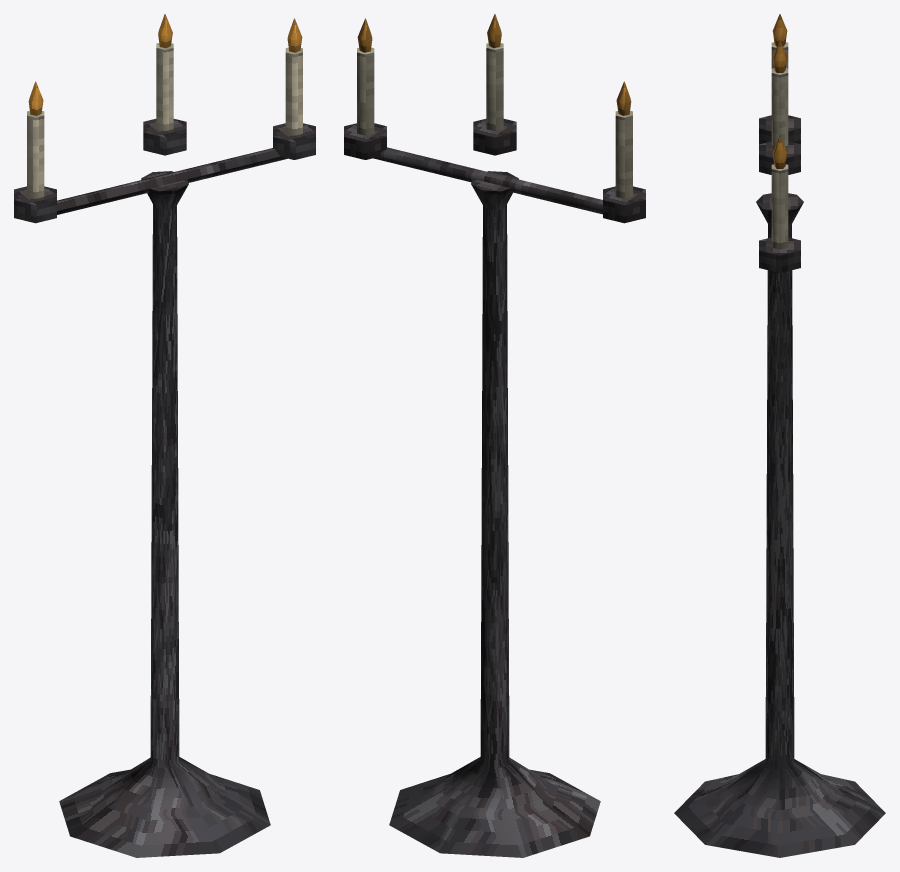
The model's file is candelabrum.glb.
The picture shows the model from 3 angles, left to right: view 1: azimuth 30°, elevation 25°; view 2: azimuth 150°, elevation 25°; view 3: azimuth 270°, elevation 25°; orthographic projection. The views are drawn at different scales.
Parts seen in each view (by area): view 1: candelabrum; view 2: candelabrum; view 3: candelabrum.
Part boxes in pixels (<box>): candelabrum: <box>14,14,315,857</box>; candelabrum: <box>344,14,645,857</box>; candelabrum: <box>674,14,885,857</box>.
Bounding box in the file's own units: 0.7 × 1.77 × 0.44.
Materials: 1 (1 with a texture image).
